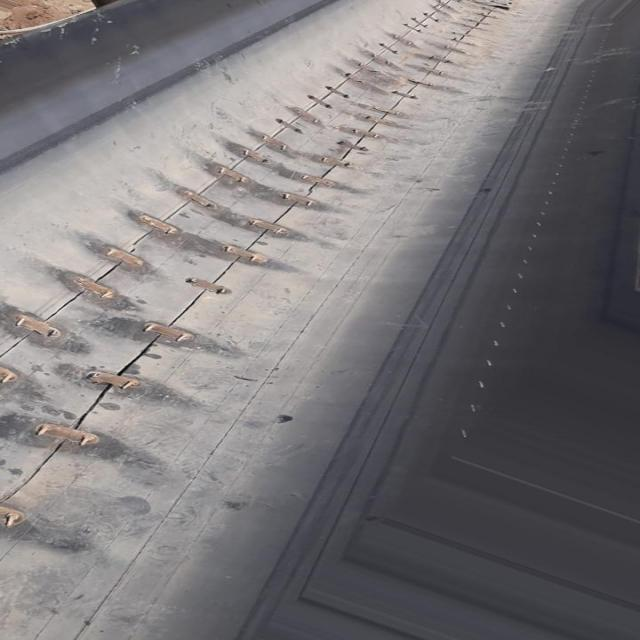patch work: (0, 0, 547, 555)
